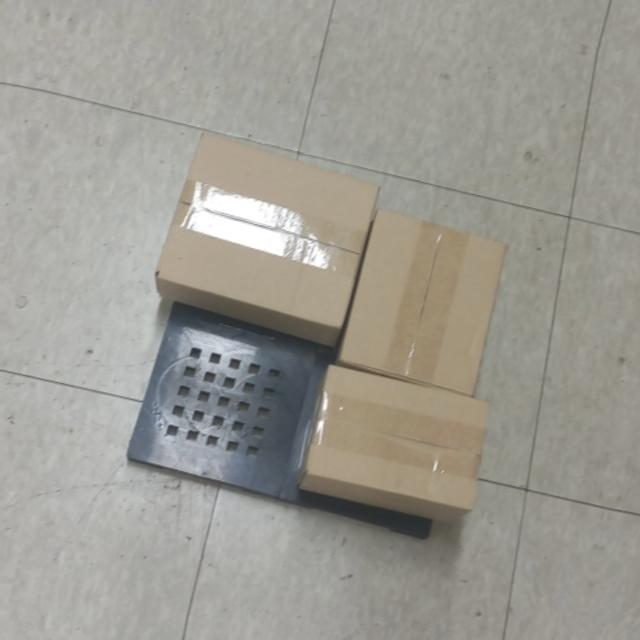box: (148, 126, 386, 346), (287, 358, 502, 536), (336, 208, 509, 401)
